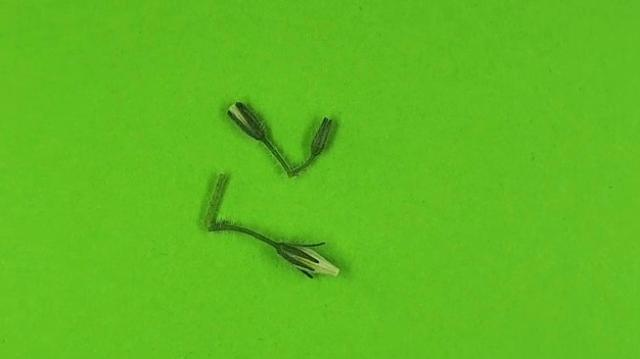Flower Bud: (276, 243, 340, 280), (227, 101, 267, 140), (309, 117, 334, 156)
